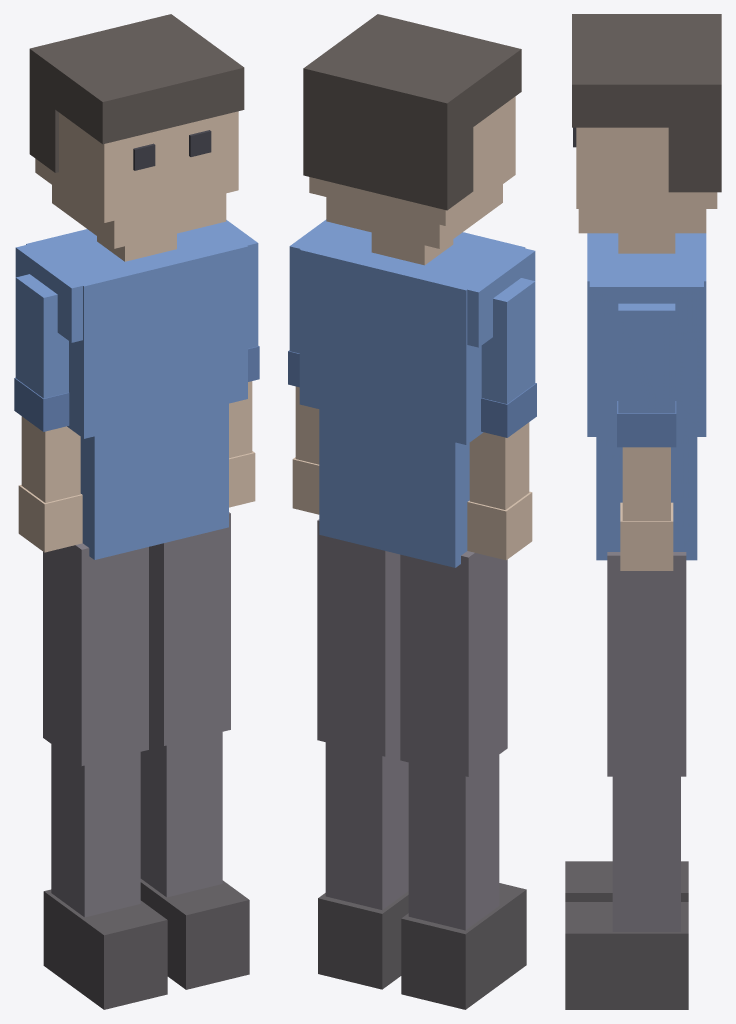
The model's file is character_b.glb.
The picture shows the model from 3 angles, left to right: view 1: azimuth 30°, elevation 25°; view 2: azimuth 150°, elevation 25°; view 3: azimuth 270°, elevation 25°; orthographic projection. The views are drawn at different scales.
Parts seen in each view (by area): view 1: chest, thigh_l, hair_top, waist, thigh_r, head, shin_l, shin_r, shoe_l, shoe_r, upper_l, jaw (+8 smaller); view 2: chest, thigh_l, hair_top, waist, thigh_r, hair_back, shin_l, shin_r, shoe_l, shoe_r, head, upper_l (+8 smaller); view 3: hair_top, thigh_r, shoe_r, chest, shin_r, head, upper_r, waist, shoulders, hair_back, fore_r, jaw (+4 smaller).
Part boxes in pixels (left/top/right/bottom): chest: left=26, top=224, right=247, bottom=438; thigh_l: left=43, top=543, right=148, bottom=765; hair_top: left=29, top=14, right=244, bottom=144; waist: left=80, top=403, right=228, bottom=559; thigh_r: left=149, top=512, right=230, bottom=745; head: left=35, top=111, right=238, bottom=222; shin_l: left=51, top=744, right=140, bottom=917; shin_r: left=140, top=732, right=222, bottom=897; shoe_l: left=43, top=889, right=167, bottom=1009; shoe_r: left=140, top=879, right=249, bottom=989; upper_l: left=15, top=274, right=68, bottom=398; jaw: left=52, top=185, right=226, bottom=248; chest: left=299, top=223, right=525, bottom=444; thigh_l: left=400, top=551, right=507, bottom=776; hair_top: left=303, top=14, right=521, bottom=145; waist: left=319, top=409, right=469, bottom=567; thigh_r: left=317, top=519, right=400, bottom=756; hair_back: left=303, top=90, right=473, bottom=210; shin_l: left=408, top=755, right=499, bottom=930; shin_r: left=325, top=742, right=408, bottom=909; shoe_l: left=401, top=883, right=526, bottom=1009; shoe_r: left=318, top=891, right=408, bottom=989; head: left=309, top=96, right=515, bottom=225; upper_l: left=481, top=278, right=535, bottom=403; hair_top: left=572, top=14, right=721, bottom=127; thigh_r: left=607, top=552, right=686, bottom=776; shoe_r: left=565, top=902, right=688, bottom=1009; chest: left=587, top=233, right=706, bottom=436; shin_r: left=612, top=776, right=680, bottom=931; head: left=576, top=127, right=717, bottom=208; upper_r: left=618, top=303, right=675, bottom=413; waist: left=596, top=437, right=697, bottom=560; shoulders: left=589, top=281, right=703, bottom=342; hair_back: left=668, top=106, right=721, bottom=192; fore_r: left=622, top=447, right=670, bottom=520; jaw: left=578, top=209, right=706, bottom=233.
Size of the model in its own units: 46.4 by 186 by 28.4.
